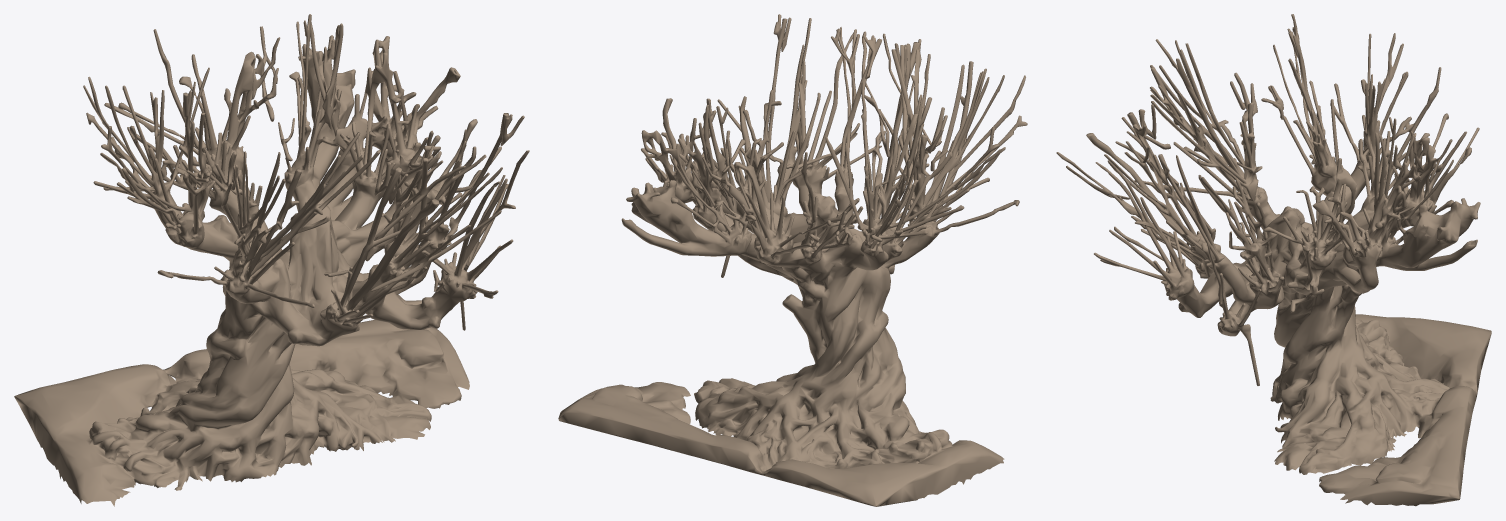
File: willow.hq.glb
The picture shows the model from 3 angles, left to right: view 1: azimuth 30°, elevation 25°; view 2: azimuth 150°, elevation 25°; view 3: azimuth 270°, elevation 25°; orthographic projection. The views are drawn at different scales.
Visible parts, largest first — view 1: placed; view 2: placed; view 3: placed.
Part boxes in pixels (x1,y1,x2,y2): placed: [14, 14, 529, 506]; placed: [558, 14, 1027, 506]; placed: [1056, 14, 1491, 506].
Bounding box in the file's own units: 18.09 × 16 × 18.48.
